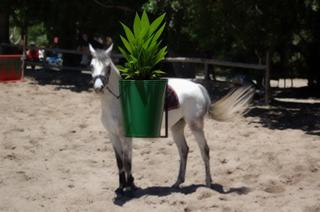horse: (85, 42, 254, 199)
pottedplant: (119, 11, 167, 137)
